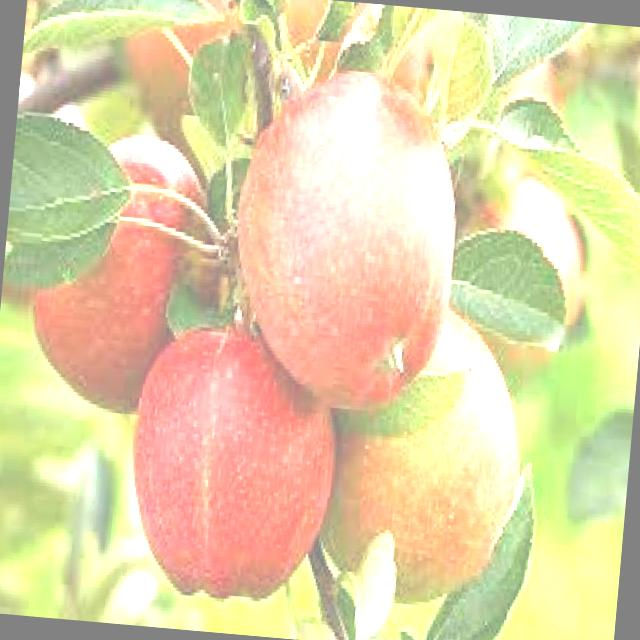Apple: (222, 58, 471, 417), (316, 297, 537, 614), (120, 318, 348, 607), (25, 124, 216, 416), (450, 163, 598, 381), (111, 0, 243, 153), (388, 12, 572, 120), (388, 15, 438, 101), (506, 54, 570, 114), (279, 0, 330, 47)
